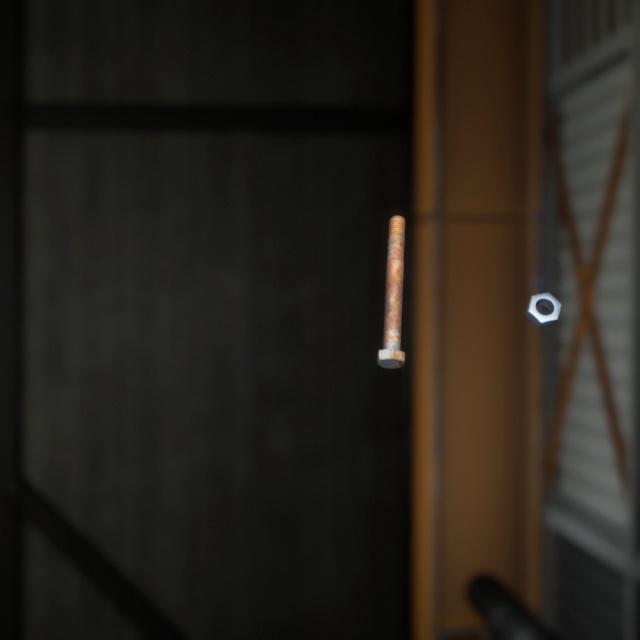bolt: (372, 195, 409, 356)
nut: (521, 270, 565, 315)
